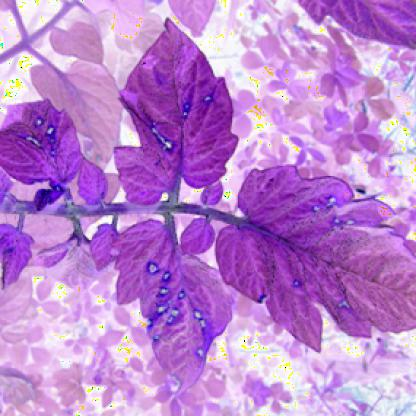tomato leaf bacterial spot: (207, 161, 415, 353), (108, 12, 248, 208), (108, 215, 250, 401), (1, 96, 83, 195)
